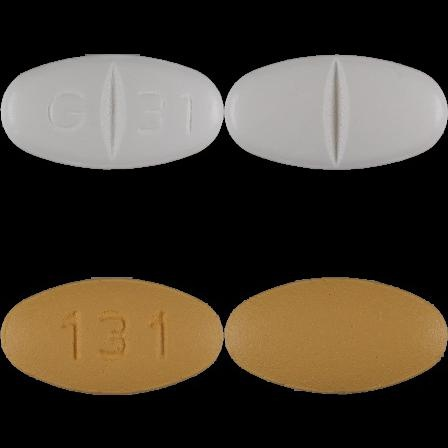50436-0126: (0, 0, 224, 224)
